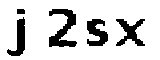2: (44, 6, 77, 52)
j: (5, 3, 32, 60)
s: (82, 18, 108, 49)
x: (114, 17, 147, 50)
